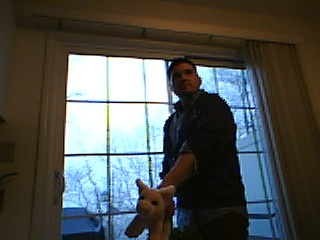piggy: (124, 177, 177, 240)
